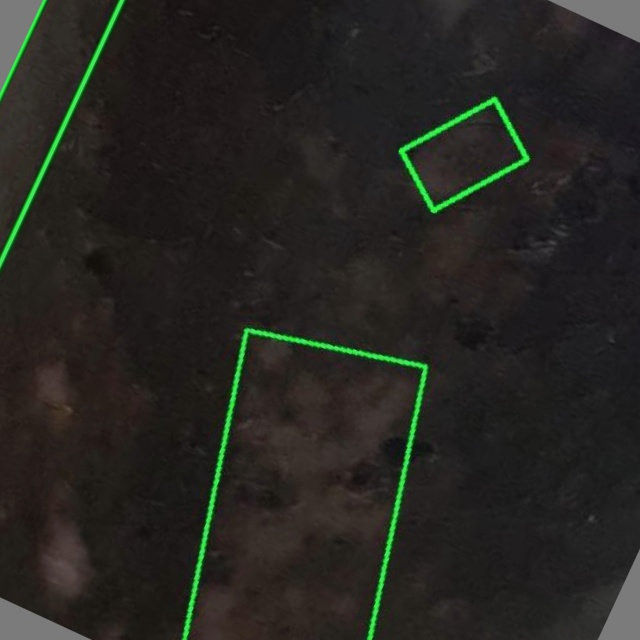Contact Dermatitis: (183, 330, 424, 639), (400, 99, 526, 211)
